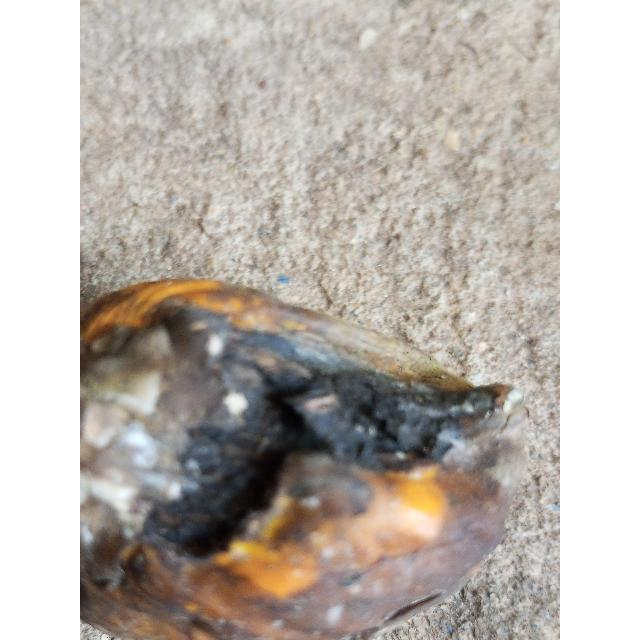damaged: (80, 279, 528, 640)
